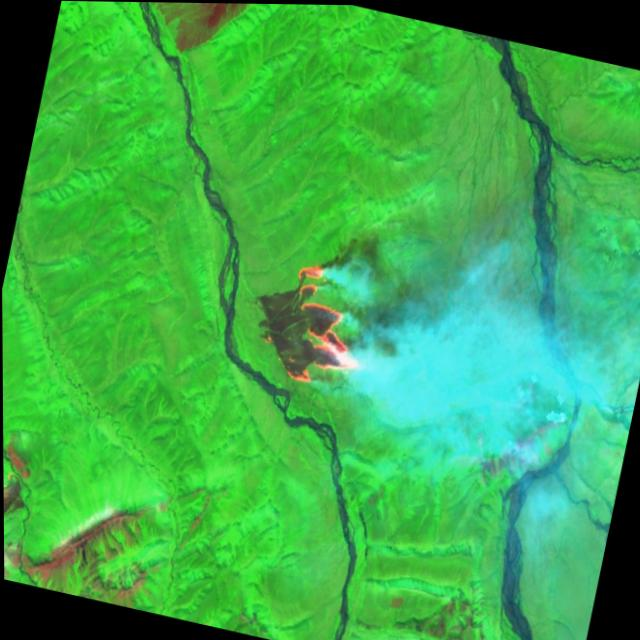fire: (240, 245, 387, 408)
